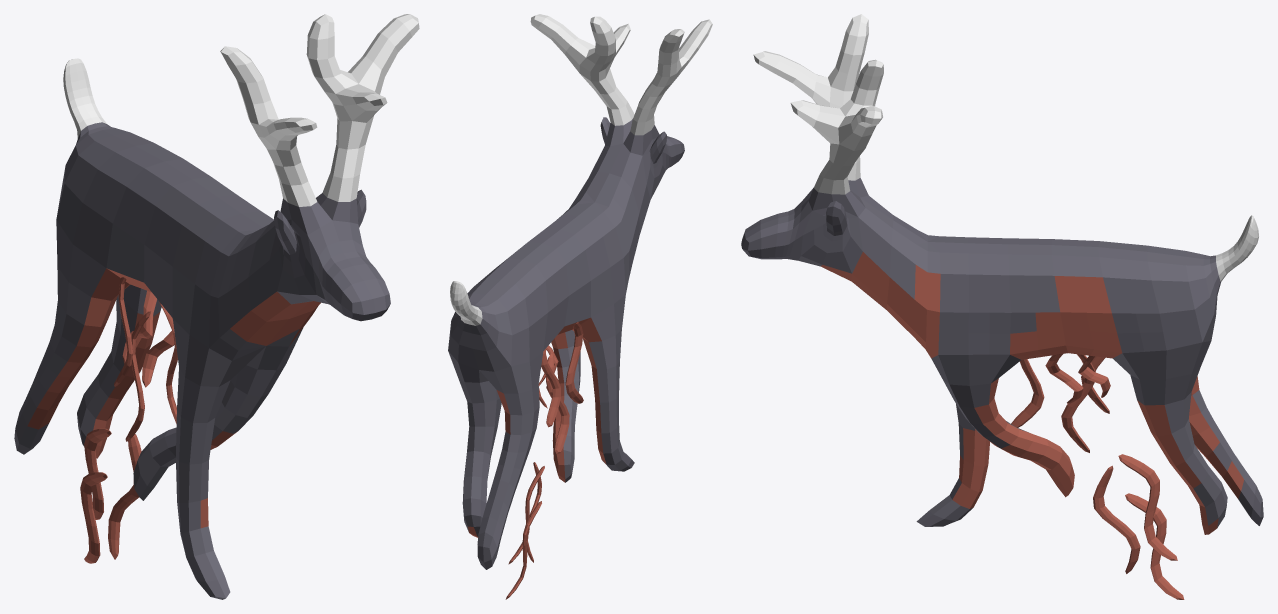
Rendered from SomnumDeer.fbx.
3 views of the same model, side by side, from view 1: azimuth 30°, elevation 25°; view 2: azimuth 150°, elevation 25°; view 3: azimuth 270°, elevation 25° (orthographic). The views are drawn at different scales.
Visible parts, largest first — view 1: Cube, Cube.001; view 2: Cube, Cube.001; view 3: Cube, Cube.001.
Part boxes in pixels (x1=…): Cube: x1=14, y1=14, x2=419, y2=599; Cube.001: x1=80, y1=277, x2=177, y2=563; Cube: x1=448, y1=14, x2=712, y2=569; Cube.001: x1=505, y1=322, x2=583, y2=599; Cube: x1=741, y1=14, x2=1263, y2=534; Cube.001: x1=1011, y1=354, x2=1184, y2=599.
Size of the model in its own units: 0.5894 by 1.83 by 1.54.
